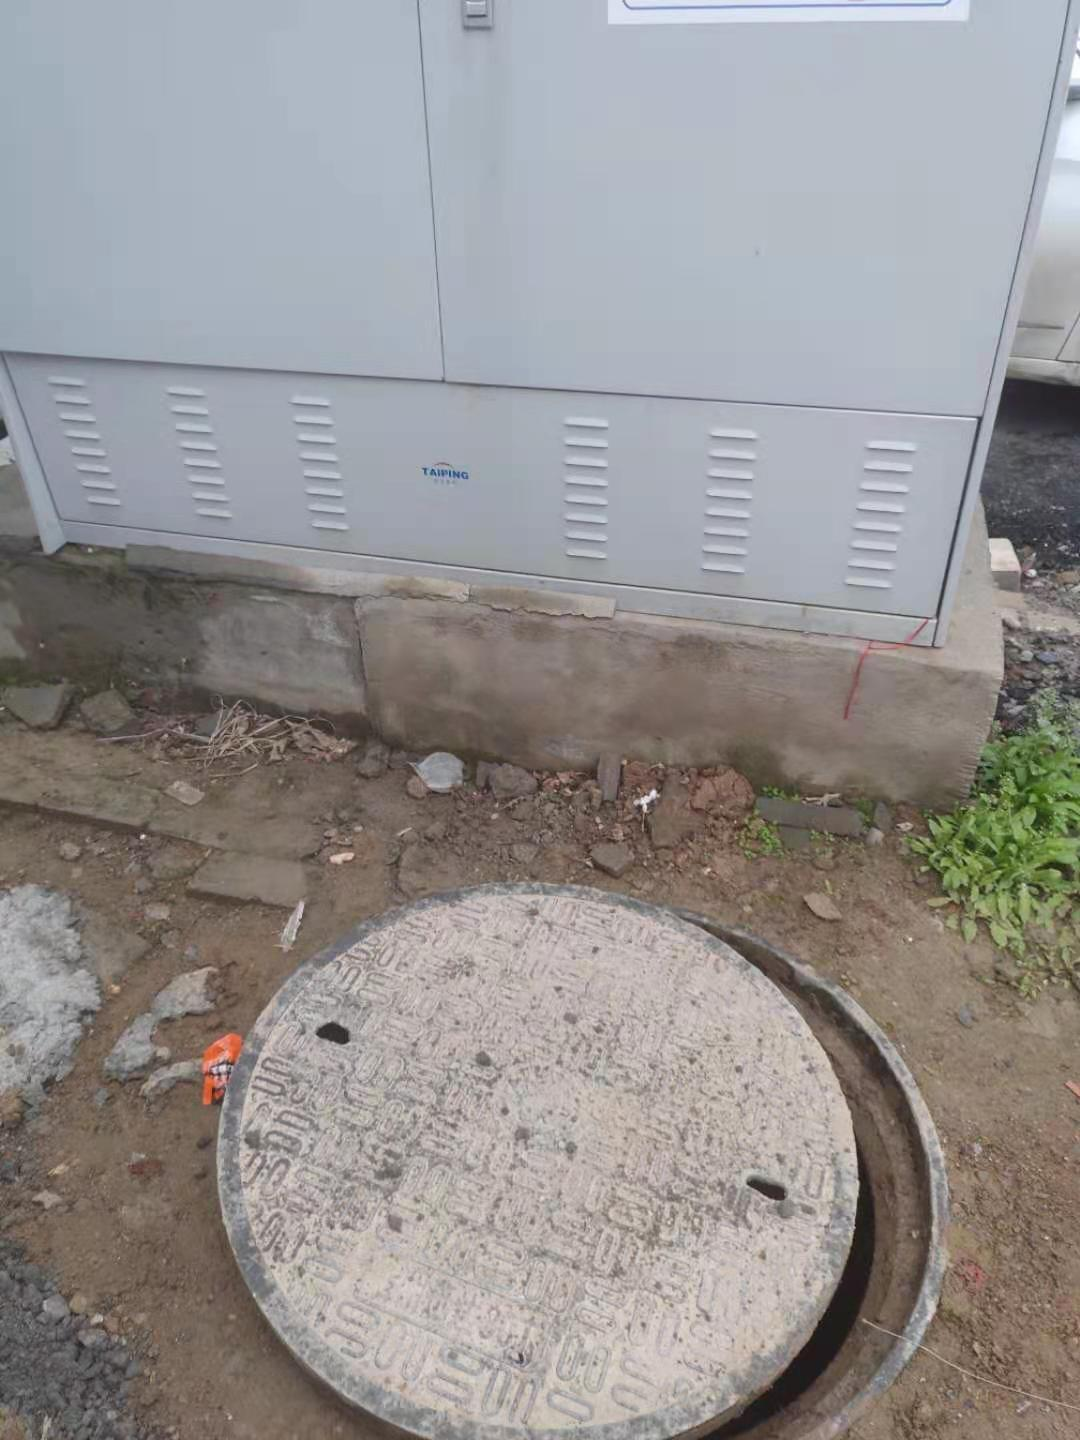wellcover: (220, 880, 954, 1440)
